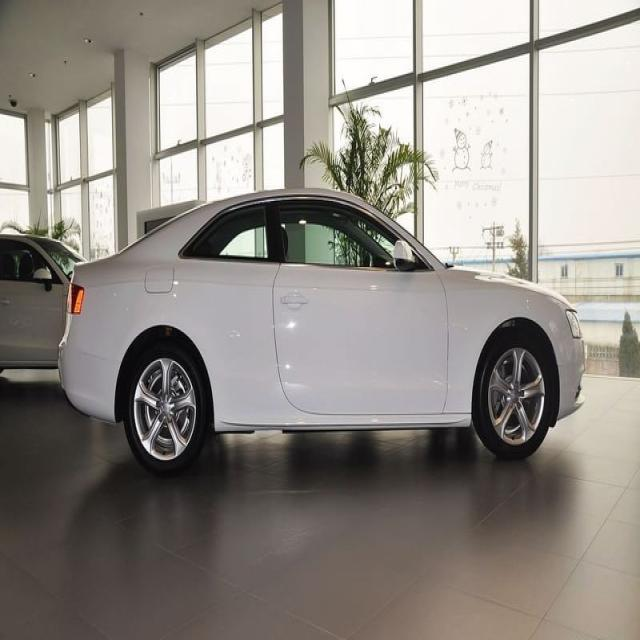back_right_side_light: (68, 279, 86, 323)
front_right_side_door: (272, 190, 450, 420)
front_right_side_light: (565, 306, 583, 341)
front_right_side_mirror: (392, 238, 417, 272)
wheel: (475, 324, 555, 460), (127, 334, 206, 469)
